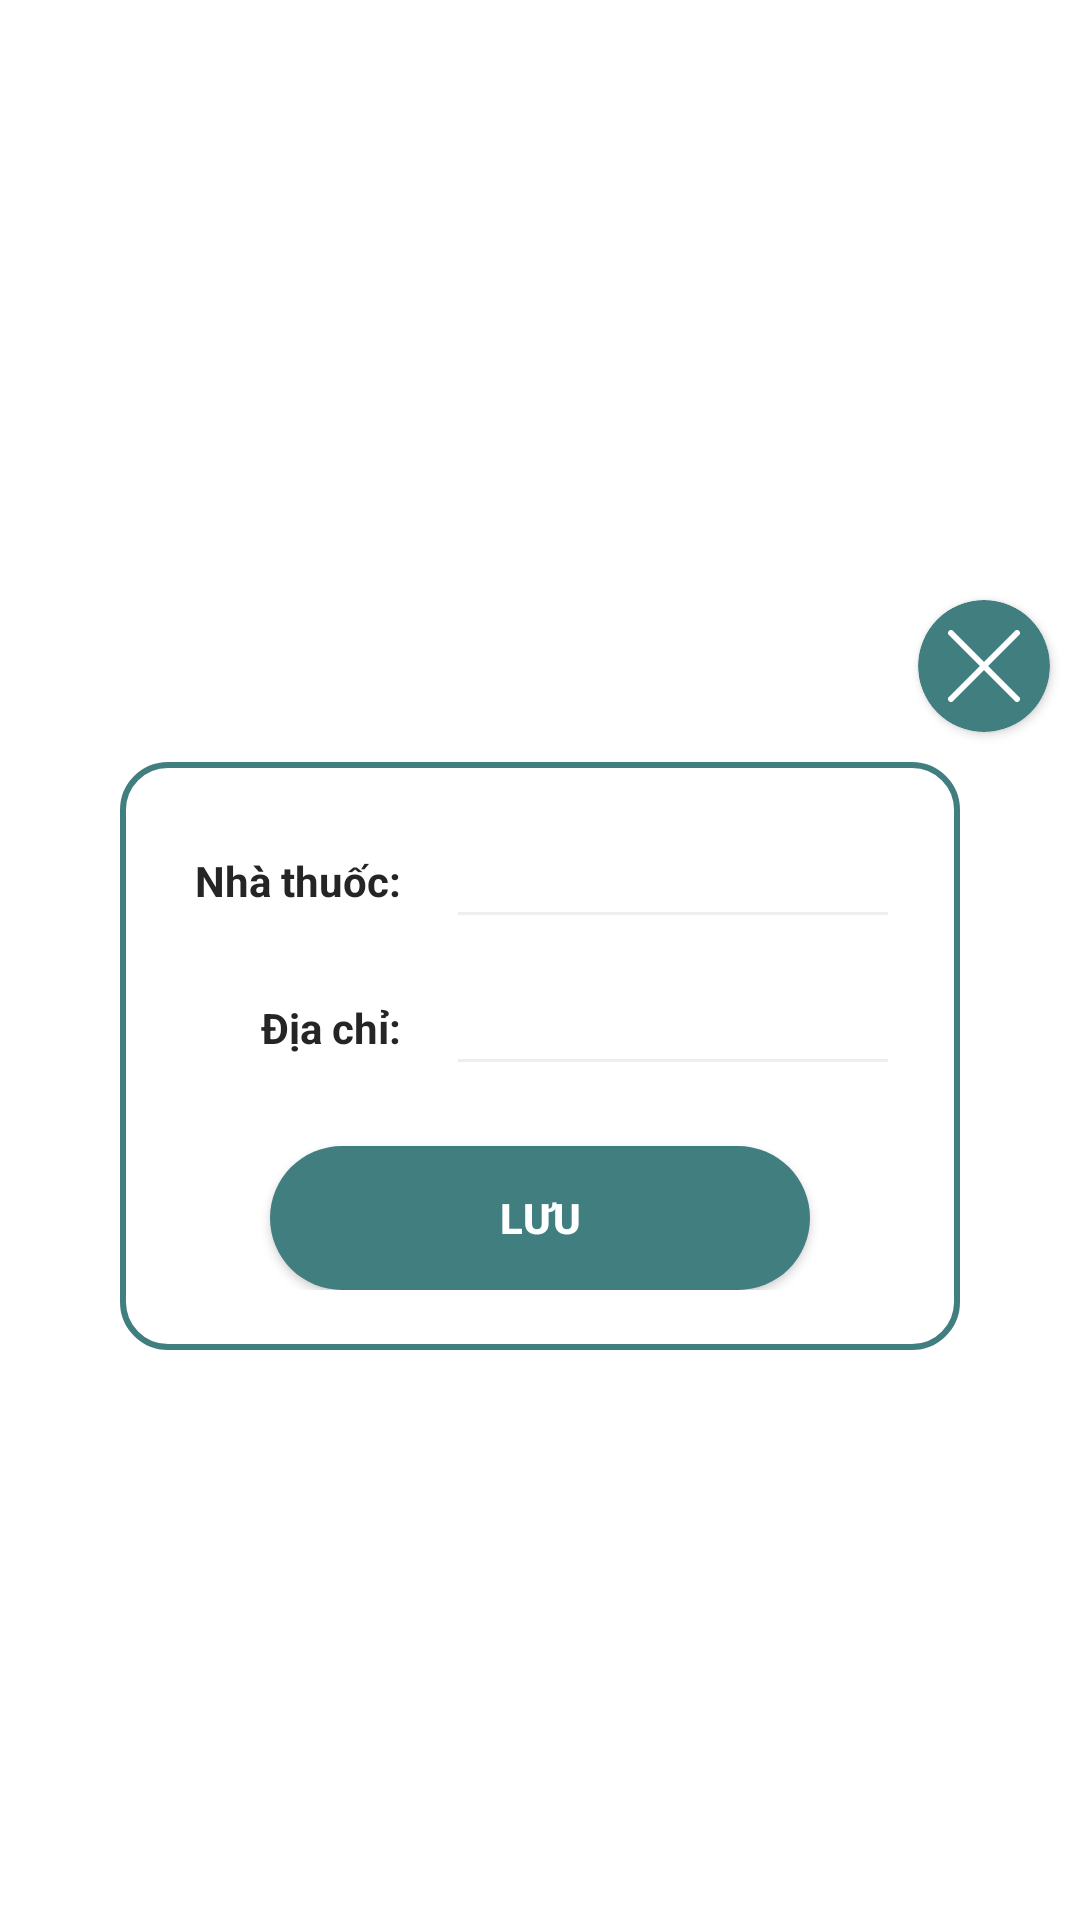

Where to tap for icons on this 1080px x 1920px app screen, as (x=x, y=y):
cancel: (x=984, y=666)
